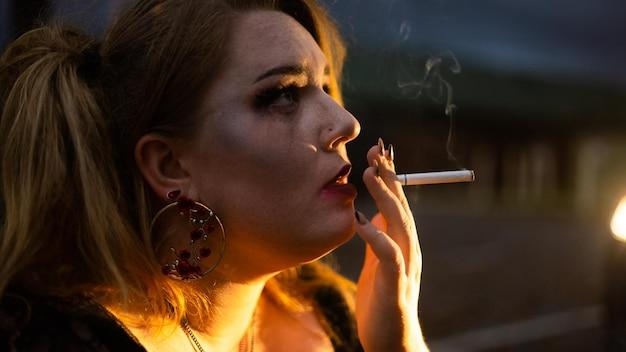cigarette: (397, 170, 474, 185)
